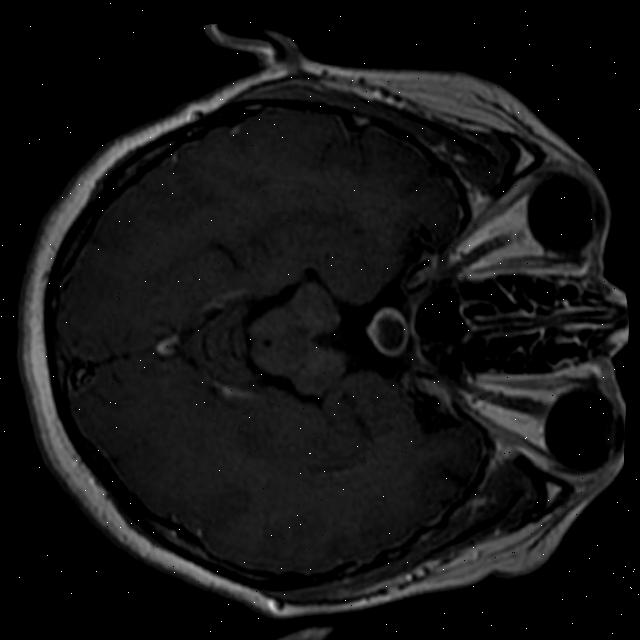Pituitary: (359, 302, 413, 361)
